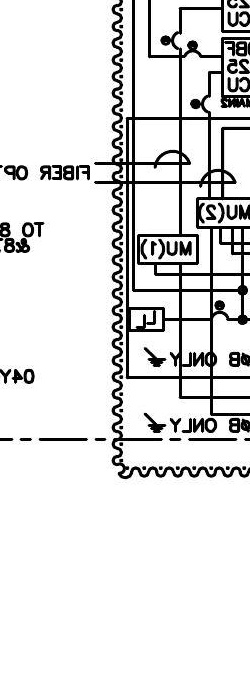LL: (128, 306, 165, 333)
MU: (137, 233, 199, 265)
